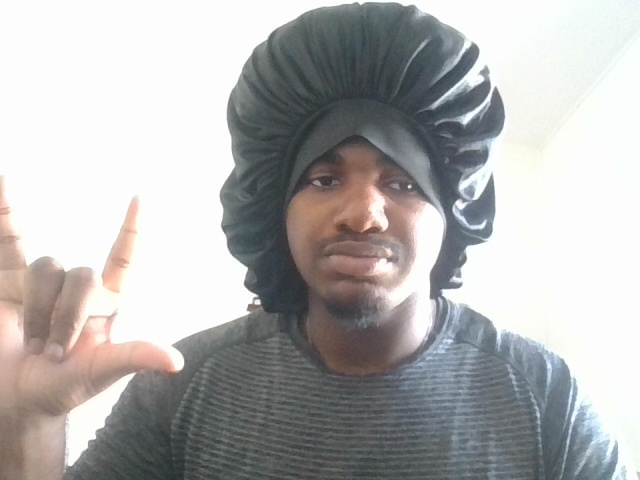I Love You: (1, 161, 197, 416)
